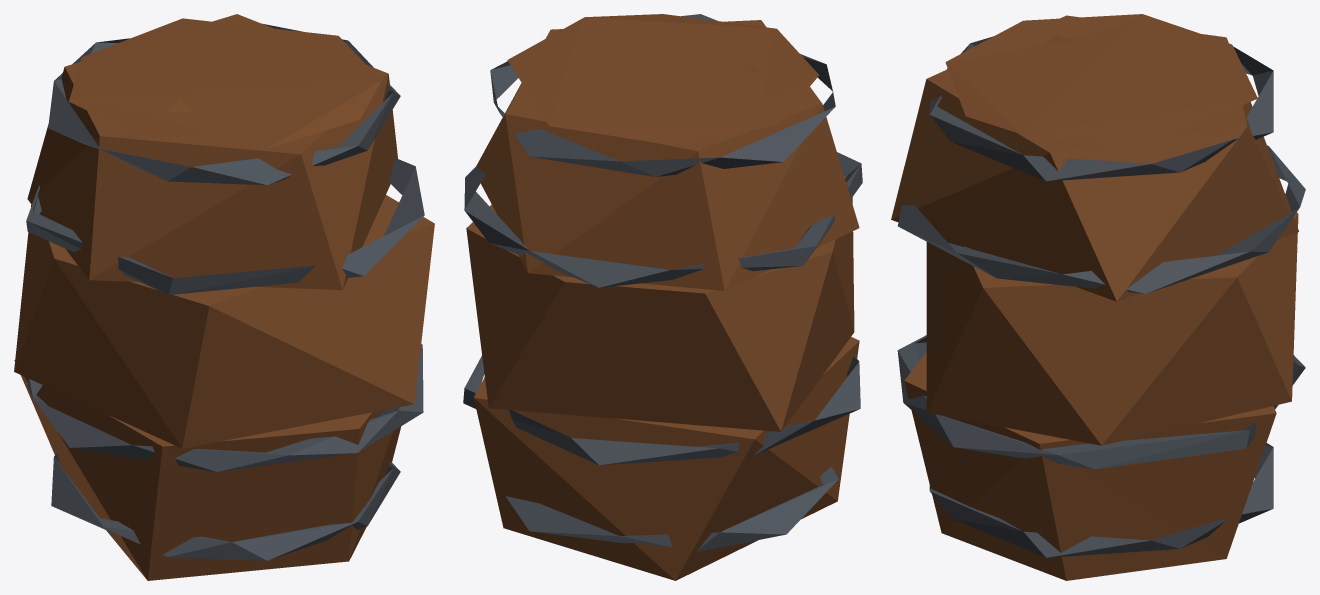
File: barrel_lod1.obj
The picture shows the model from 3 angles, left to right: view 1: azimuth 30°, elevation 25°; view 2: azimuth 150°, elevation 25°; view 3: azimuth 270°, elevation 25°; orthographic projection.
Parts seen in each view (by area): view 1: barrel_lod1; view 2: barrel_lod1; view 3: barrel_lod1.
Part boxes in pixels (box(x1,y1,x2,y2)): barrel_lod1: box(14, 14, 434, 580); barrel_lod1: box(463, 14, 862, 580); barrel_lod1: box(891, 14, 1305, 580).
Bounding box in the file's own units: 0.7589 × 0.8892 × 0.7591.
